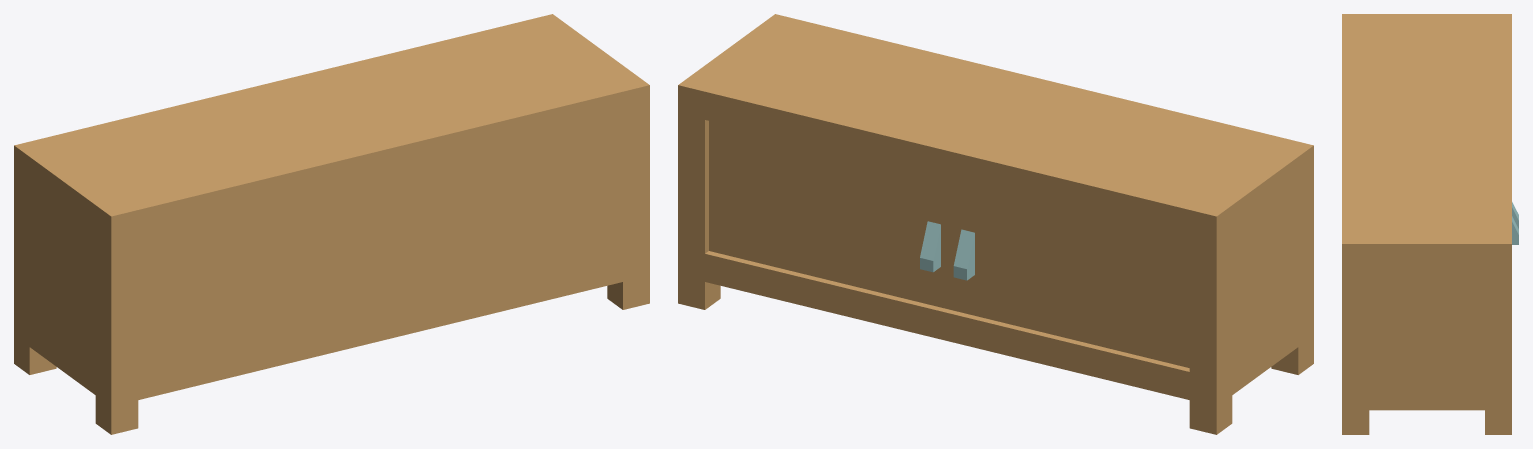
The model's file is cabinetTelevisionDoors.glb.
3 renders of one model, left to right at view 1: azimuth 30°, elevation 25°; view 2: azimuth 150°, elevation 25°; view 3: azimuth 270°, elevation 25°, orthographic. The views are drawn at different scales.
Size of the model in its own units: 8 by 3.1 by 2.6.
